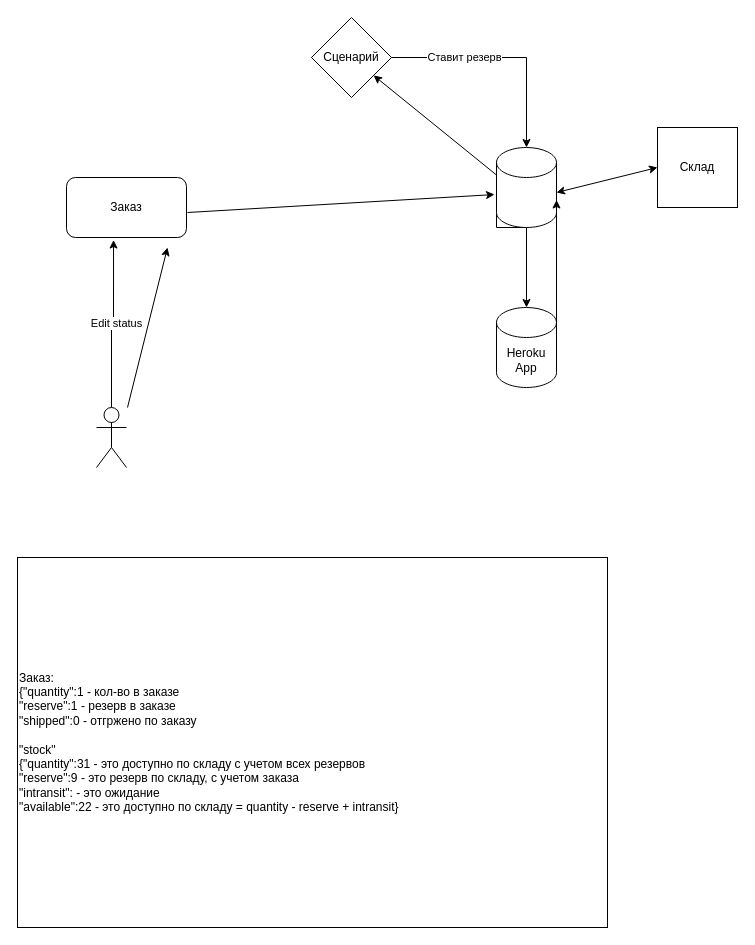
This 755x945 diagram has some shape labels left out. Each missing label, with the centre of its shape:
Actor: point (111, 437)
API MS: point (526, 187)
